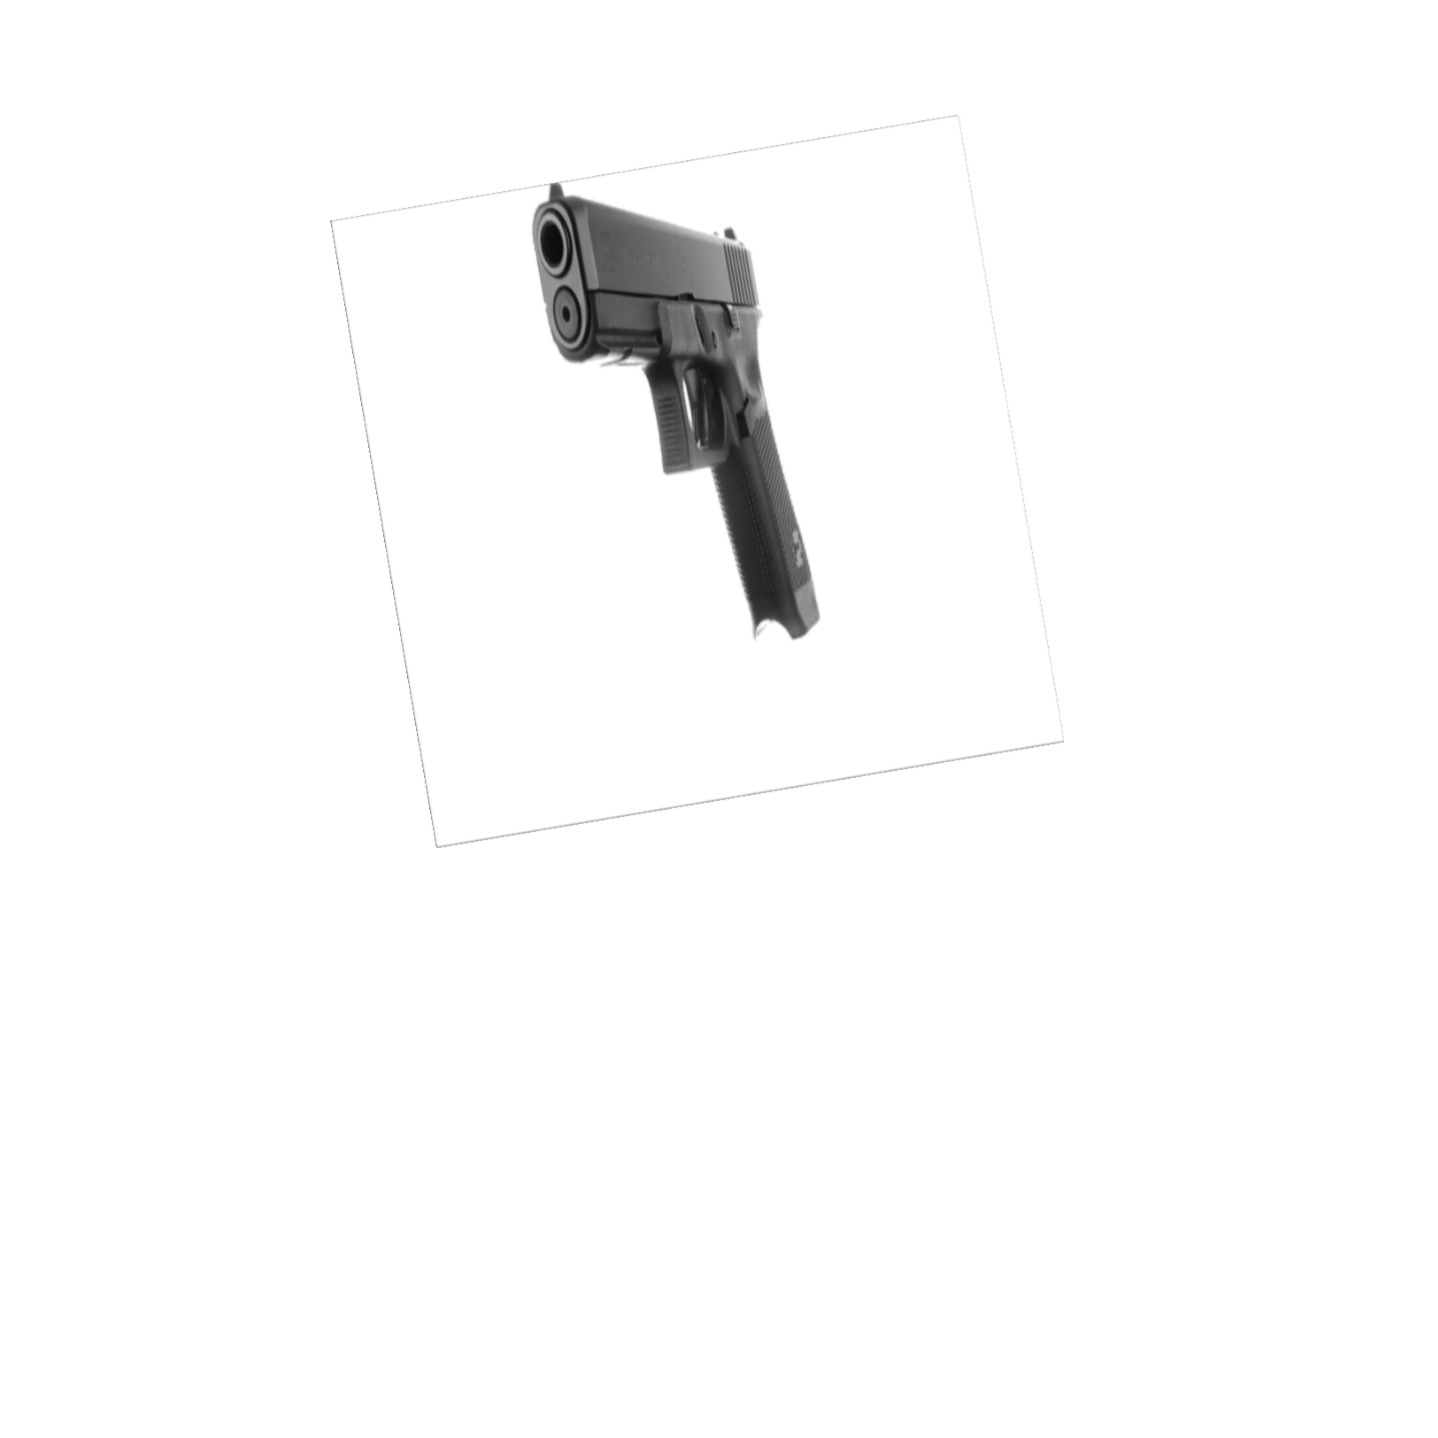gun: (528, 176, 820, 647)
